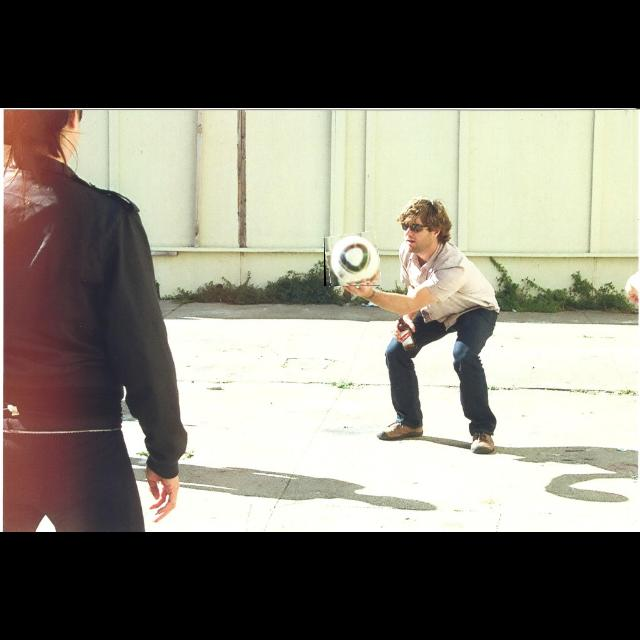Football: (324, 232, 380, 286)
